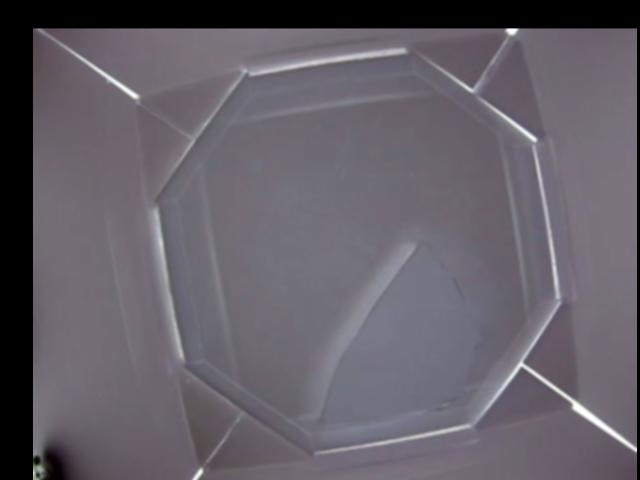China: (316, 239, 476, 433)
